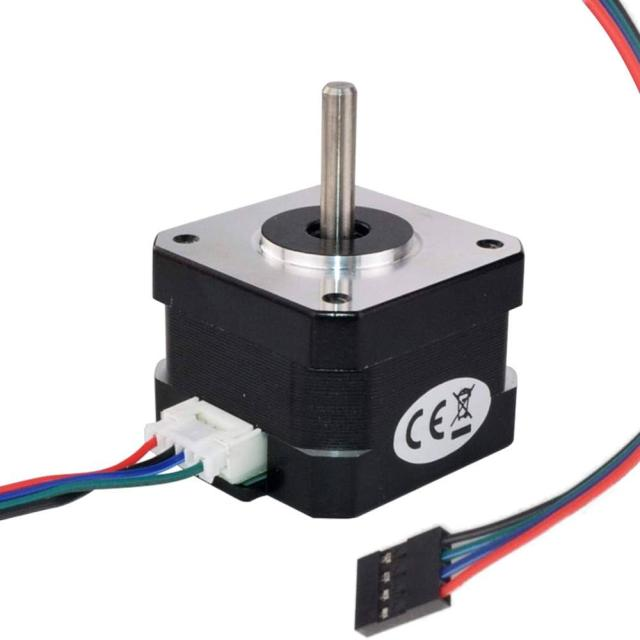motor: (0, 81, 526, 522)
